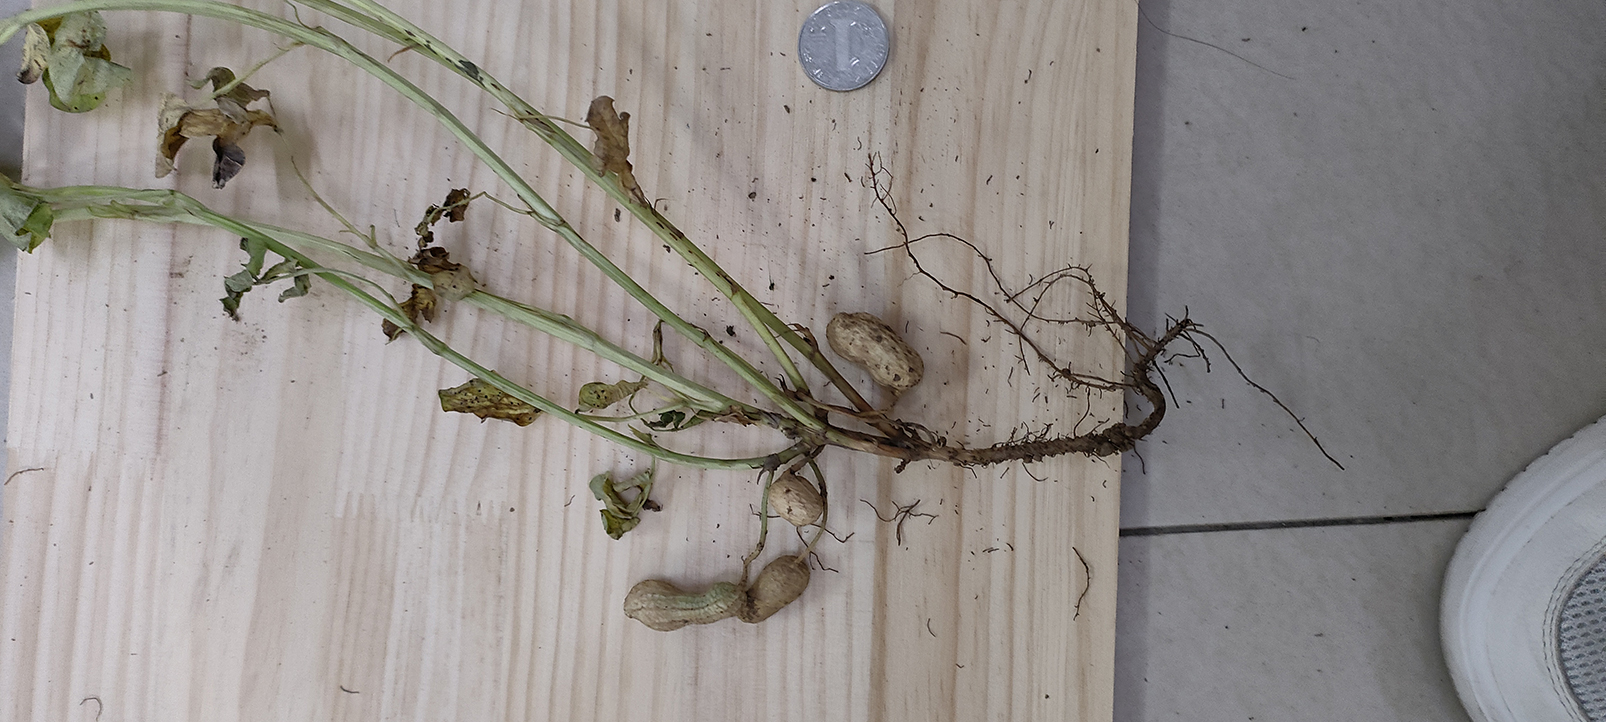h: (825, 311, 924, 390), (624, 578, 747, 633), (746, 557, 812, 622), (768, 474, 825, 525)
